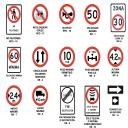speed_limit_50: (83, 2, 101, 26)
